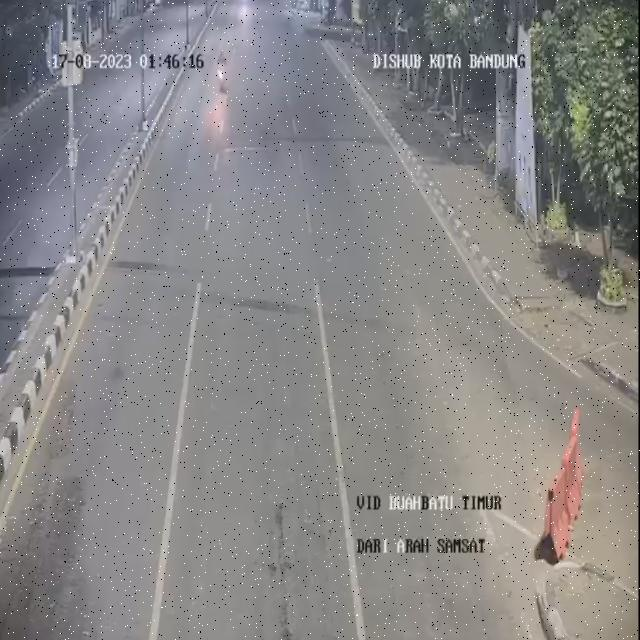motorcycle: (215, 48, 233, 100)
